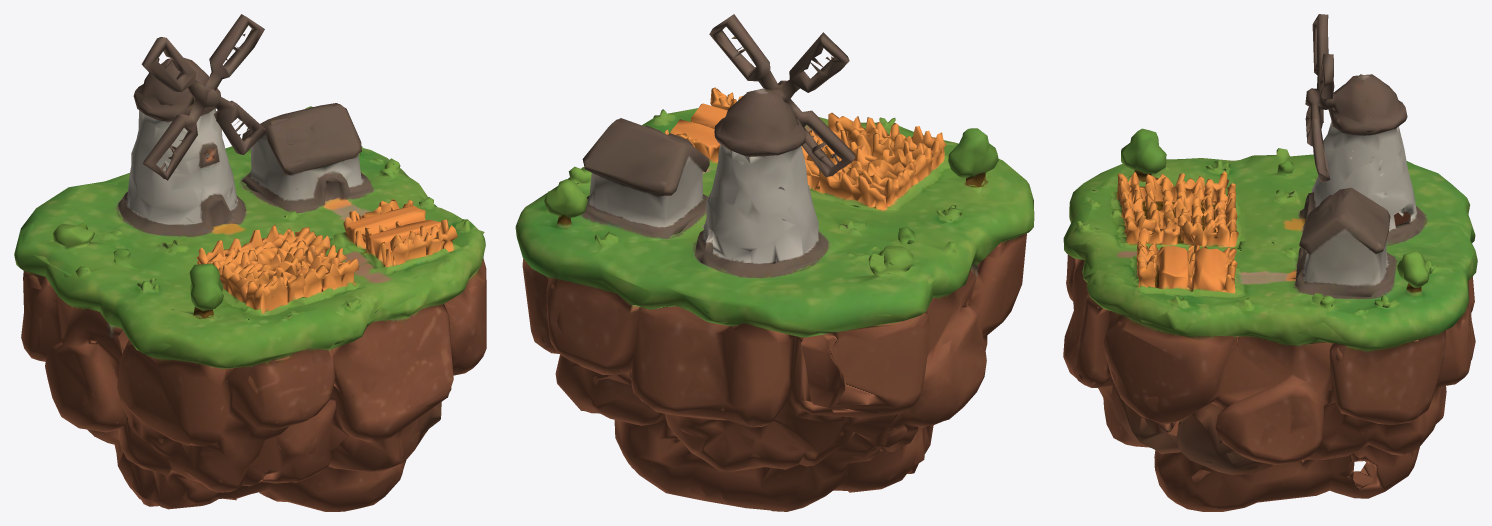
File: isle-mill.glb
3 views of the same model, side by side, from view 1: azimuth 30°, elevation 25°; view 2: azimuth 150°, elevation 25°; view 3: azimuth 270°, elevation 25° (orthographic). The views are drawn at different scales.
Size of the model in its own units: 11 by 12.31 by 10.8.
1 material, 1 textured.
